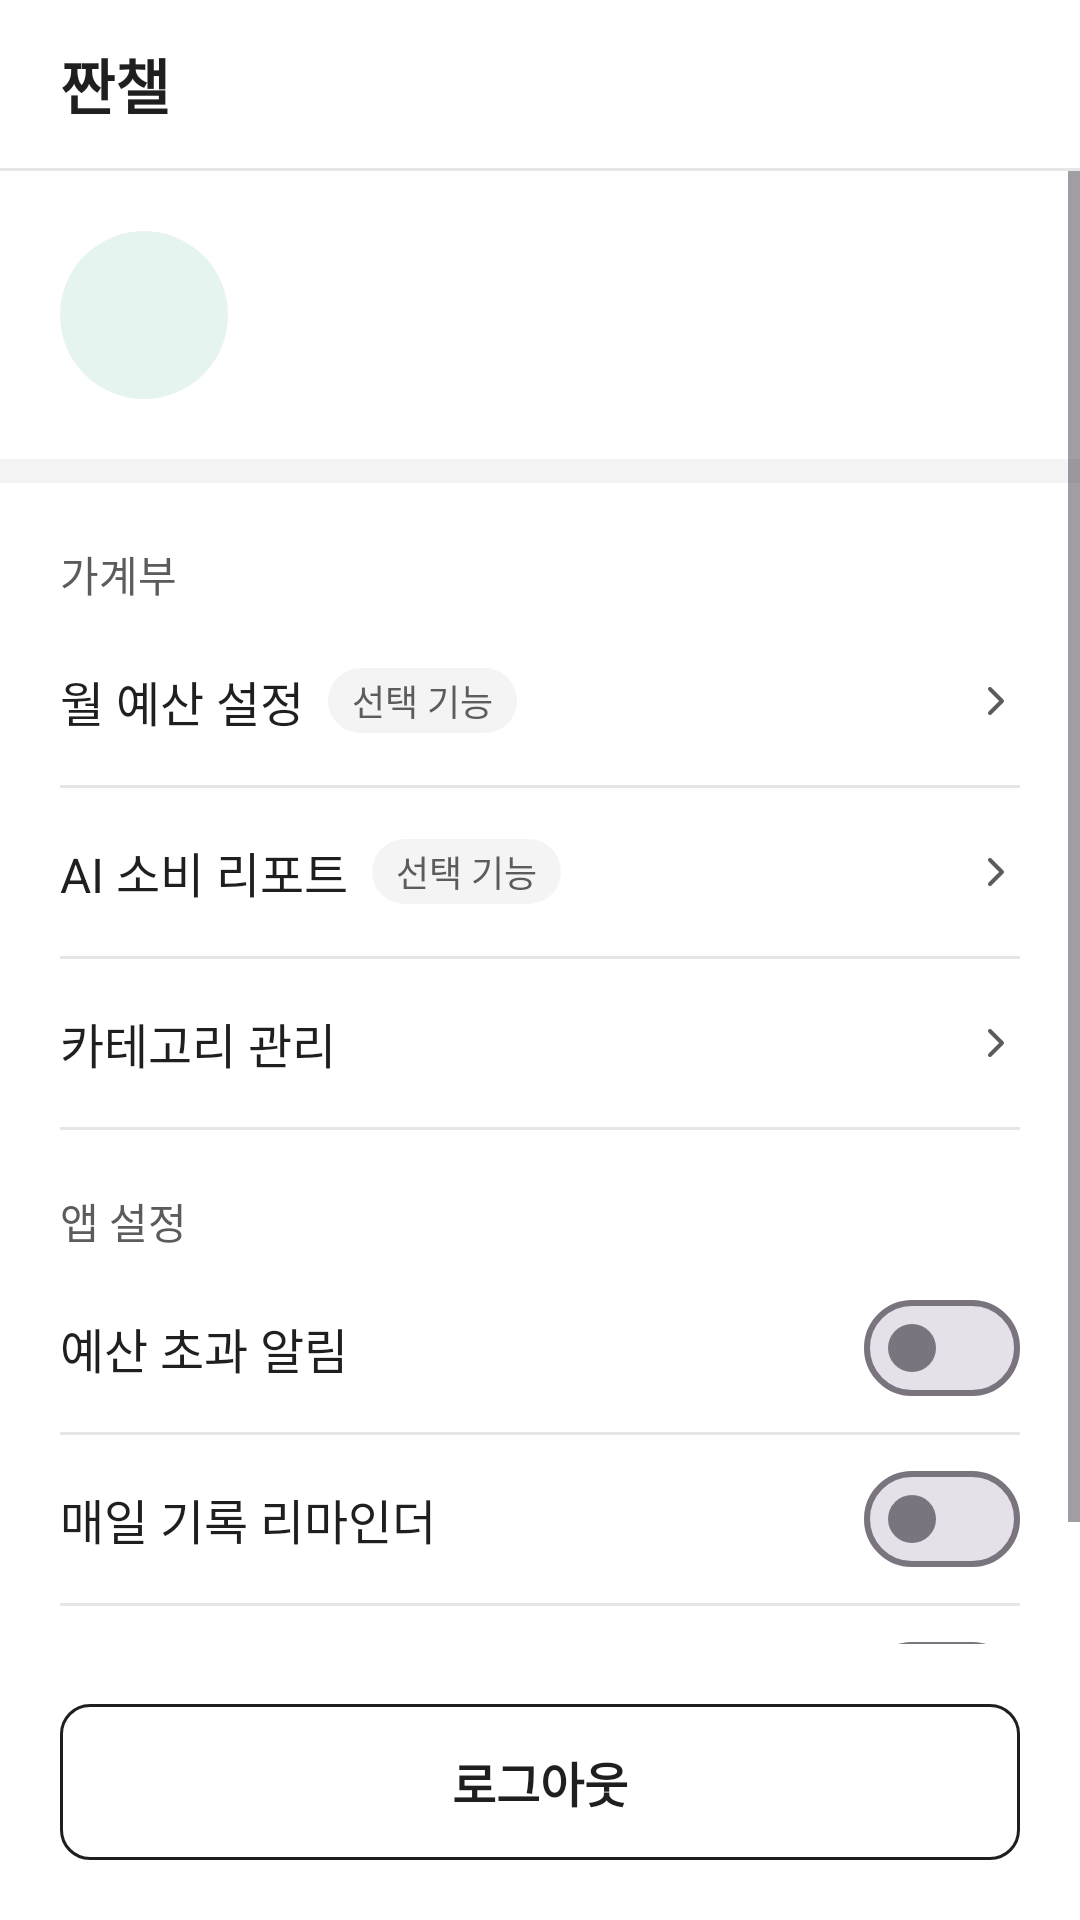

Point at icon controls on the screen. Image size 1080 × 1920, points as (x,y).
chevron right: (996,701), (996,872), (996,1043)
